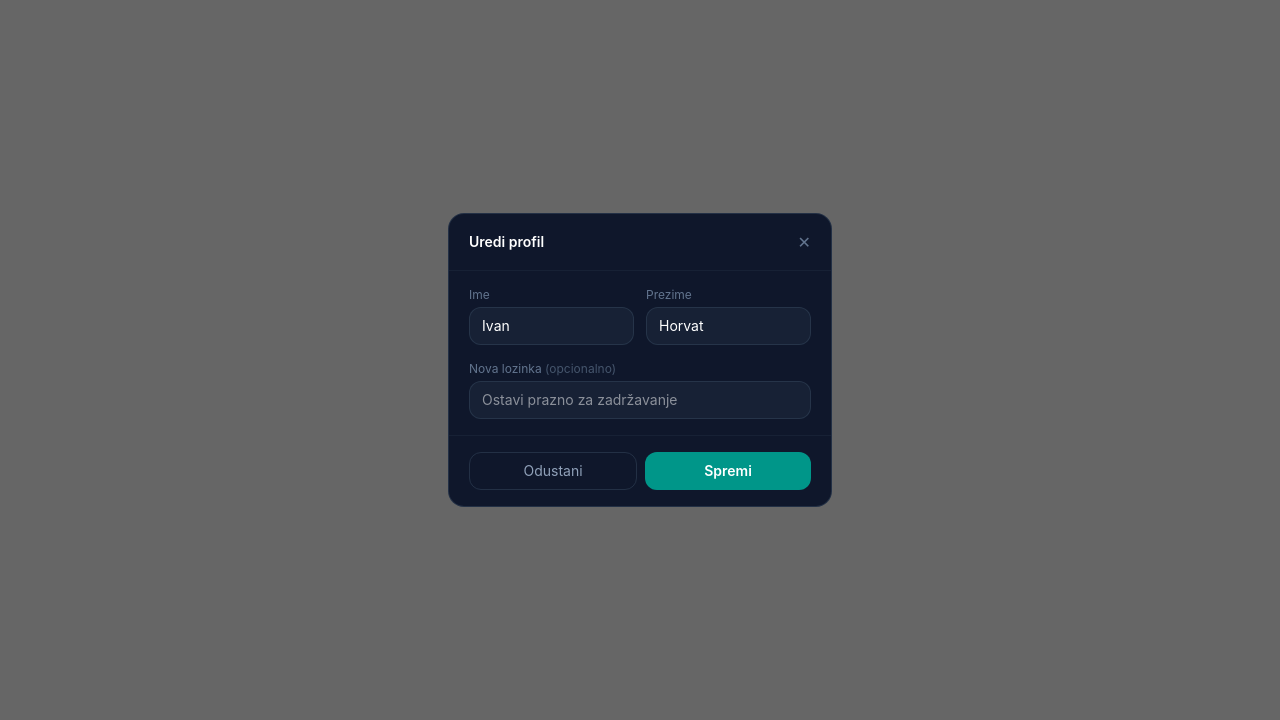
Test: ProfileEditModal › prikazuje grešku kada se lozinke ne podudaraju
Type "lozinka1" into the password field with placeholder "Ostavi prazno za zadržavanje".
click(640, 400); type("lozinka1")  # box [469,381,811,419]
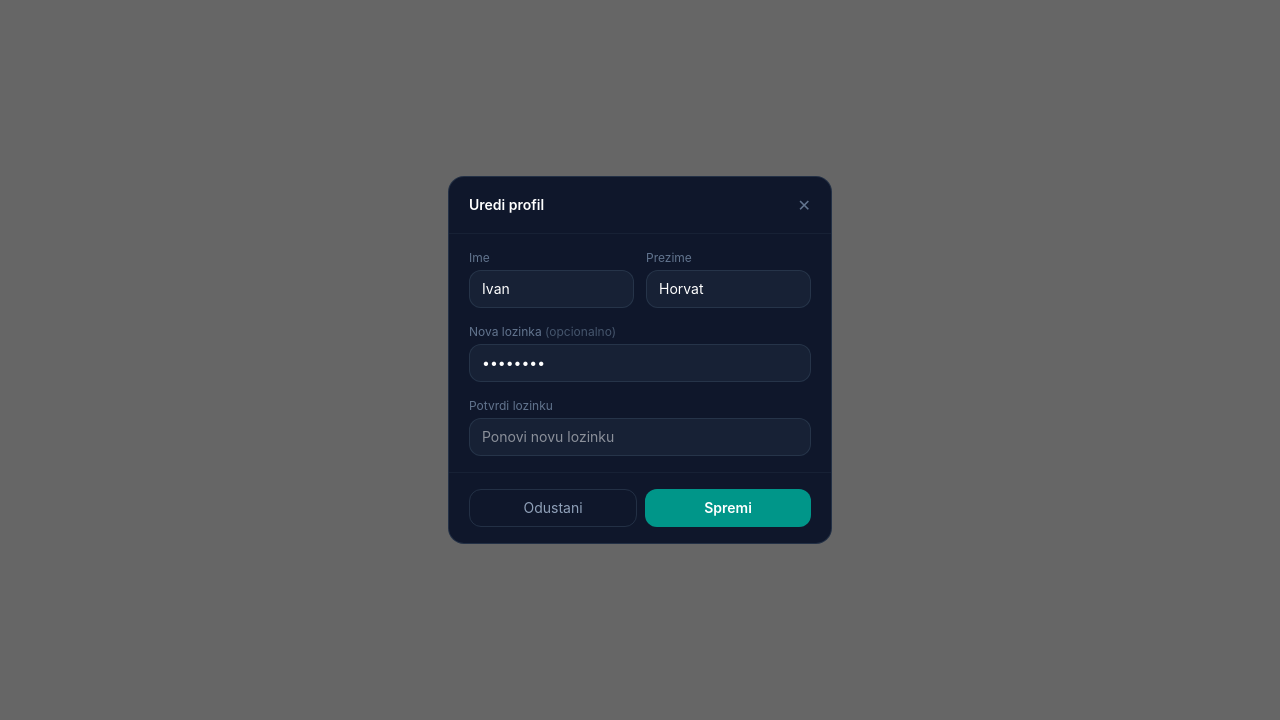
Type "lozinka2" into the password field with placeholder "Ponovi novu lozinku".
click(640, 437); type("lozinka2")  # box [469,418,811,456]
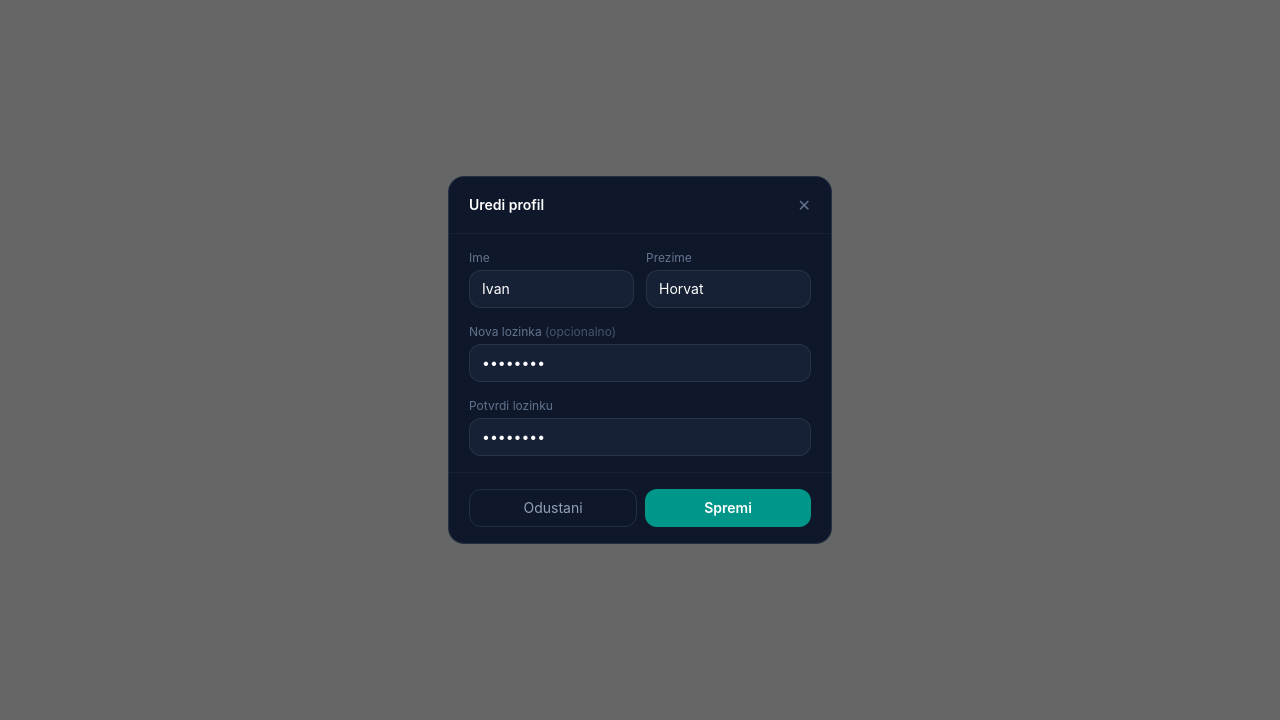
Click the button "Spremi".
click(728, 508)  # box [645,489,811,527]
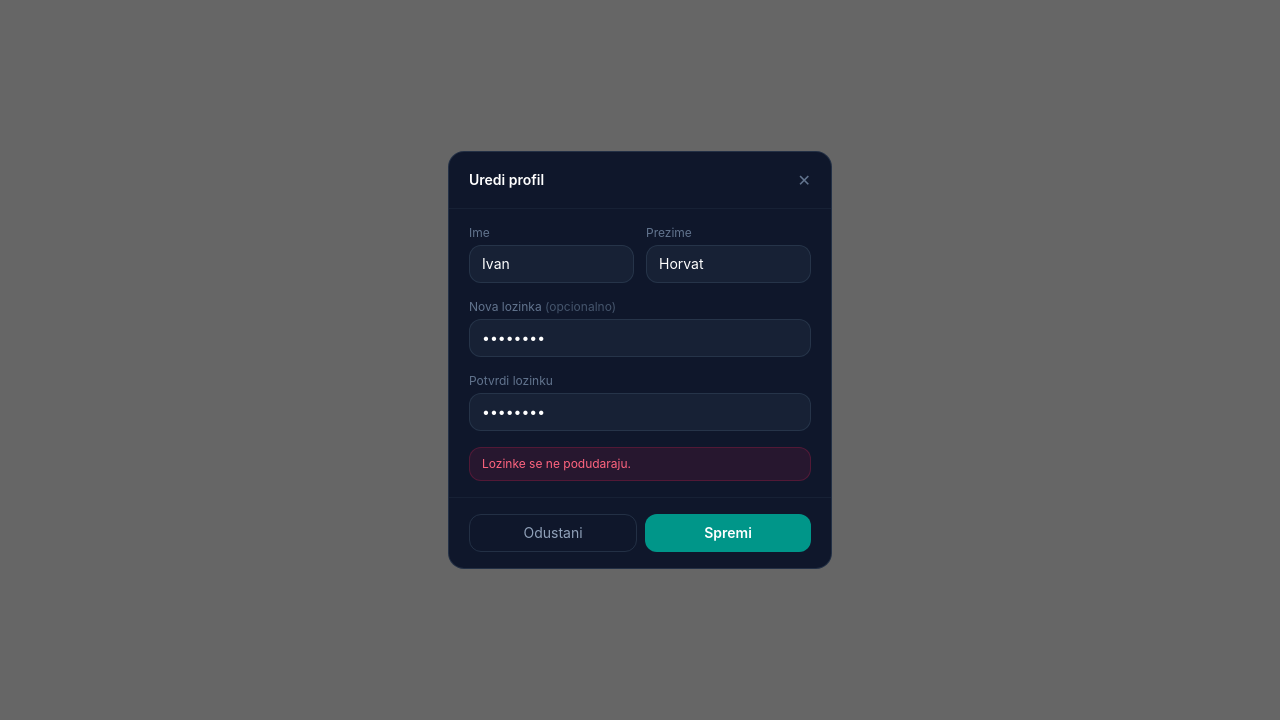
Expected: the text "Lozinke se ne podudaraju." is shown, [469,447,811,481]
